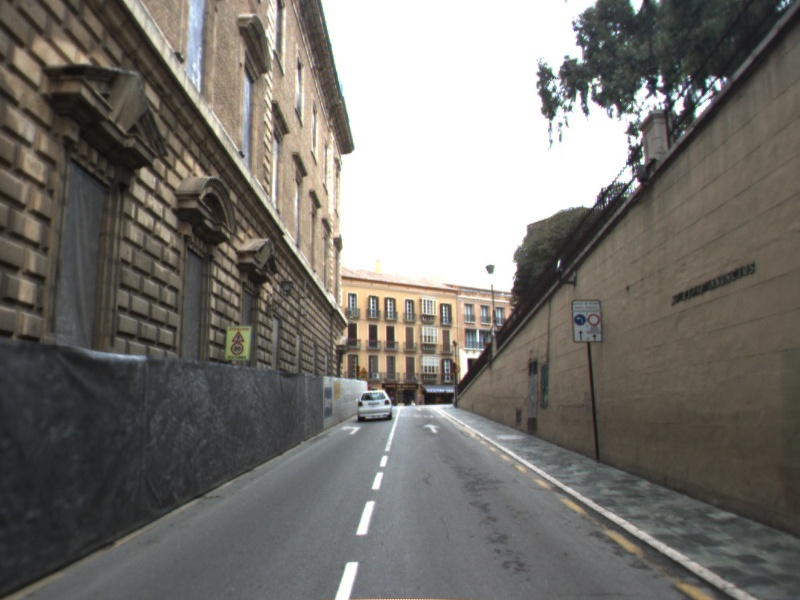LEFT: (339, 424, 363, 436)
STRAIGHT: (420, 421, 443, 434)
